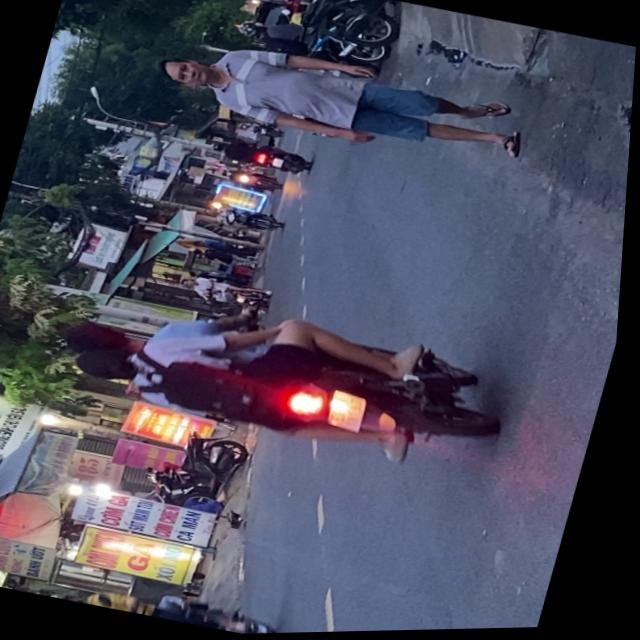licenseplate: (50, 270, 525, 492), (52, 566, 305, 638)
motorcyclist: (65, 313, 155, 370), (72, 342, 143, 388)
nohelmet: (328, 392, 372, 435)
